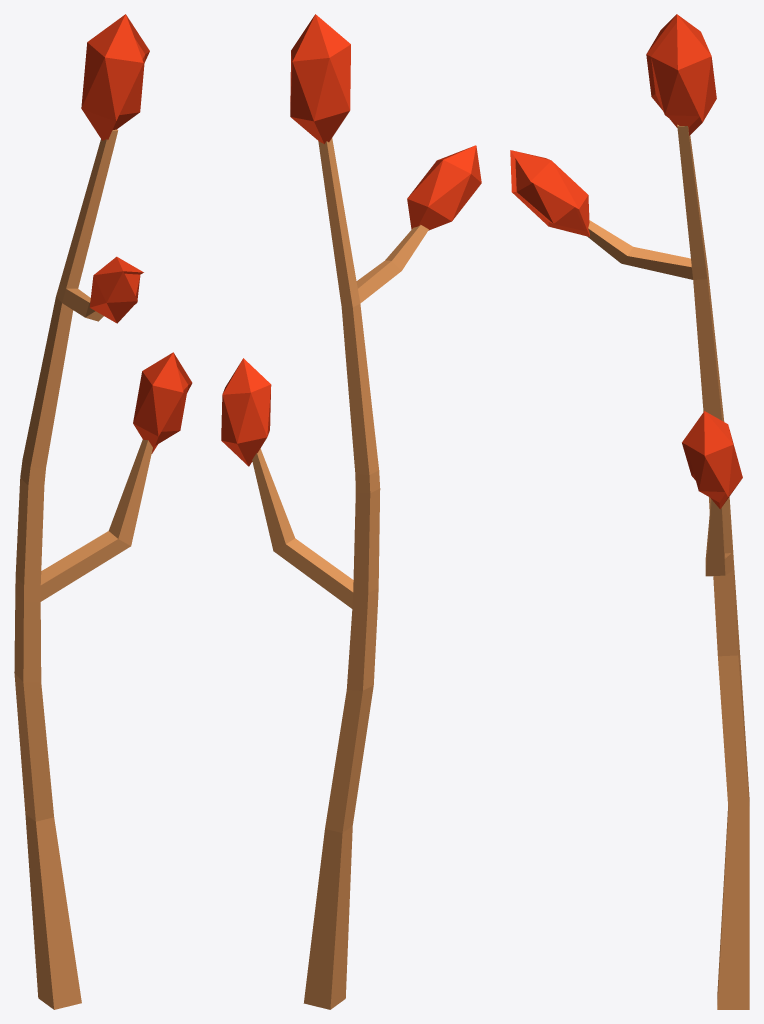
File: Plant_05.glb
3 renders of one model, left to right at view 1: azimuth 30°, elevation 25°; view 2: azimuth 150°, elevation 25°; view 3: azimuth 270°, elevation 25°, orthographic. The views are drawn at different scales.
Visible parts, largest first — view 1: Plant_05; view 2: Plant_05; view 3: Plant_05.
Part boxes in pixels (x1,y1,x2,y2): Plant_05: (14, 14, 192, 1009); Plant_05: (221, 14, 481, 1009); Plant_05: (510, 14, 749, 1009).
Size of the model in its own units: 0.2647 by 1.42 by 0.3062.
1 material, 1 textured.
